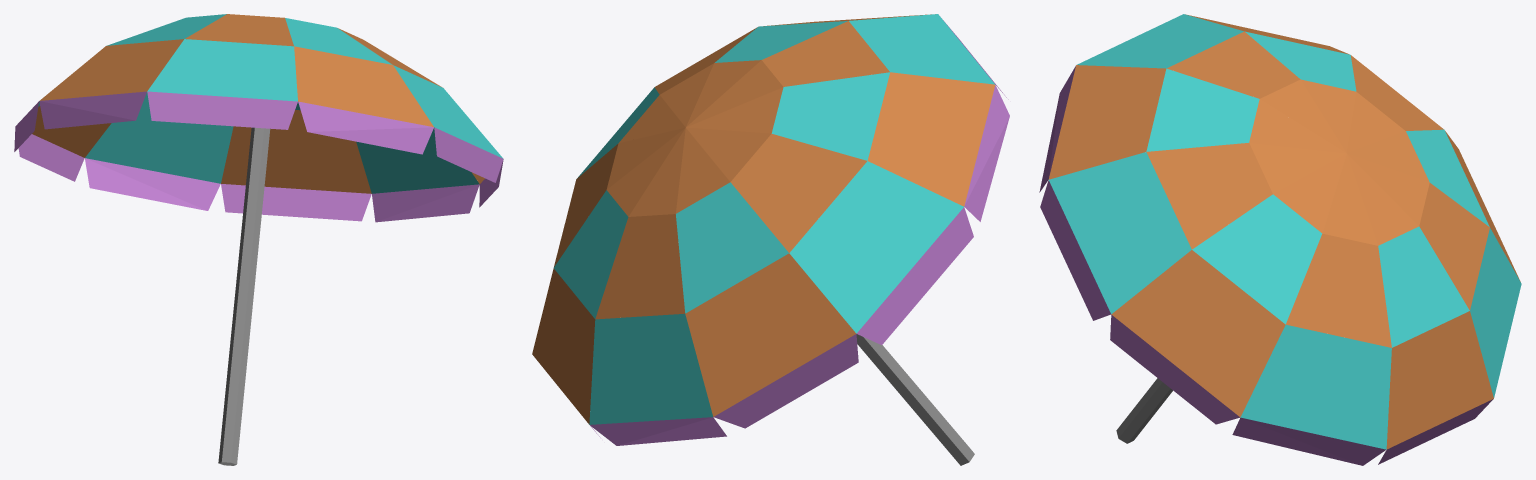
The picture shows the model from 3 angles, left to right: view 1: azimuth 30°, elevation 25°; view 2: azimuth 150°, elevation 25°; view 3: azimuth 270°, elevation 25°; orthographic projection. The views are drawn at different scales.
Visible parts, largest first — view 1: UMBRELLA3.002; view 2: UMBRELLA3.002; view 3: UMBRELLA3.002.
Part boxes in pixels (x1,y1,x2,y2): UMBRELLA3.002: (14, 14, 503, 465); UMBRELLA3.002: (532, 14, 1009, 465); UMBRELLA3.002: (1039, 14, 1521, 465).
Size of the model in its own units: 260 by 237 by 248.
